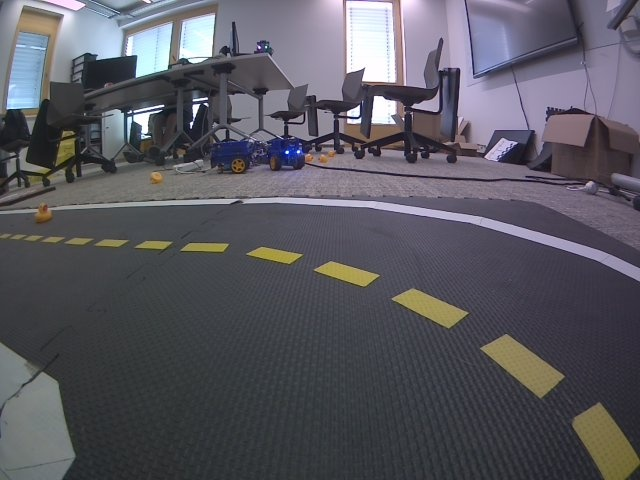Bot: (210, 141, 256, 174), (267, 137, 309, 171), (253, 39, 274, 56)
